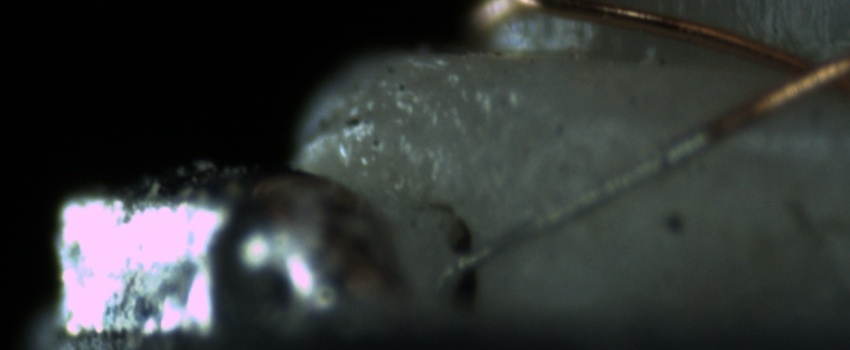CL: (765, 40, 847, 105)
DL: (563, 108, 850, 174)
TS: (444, 124, 713, 282)
